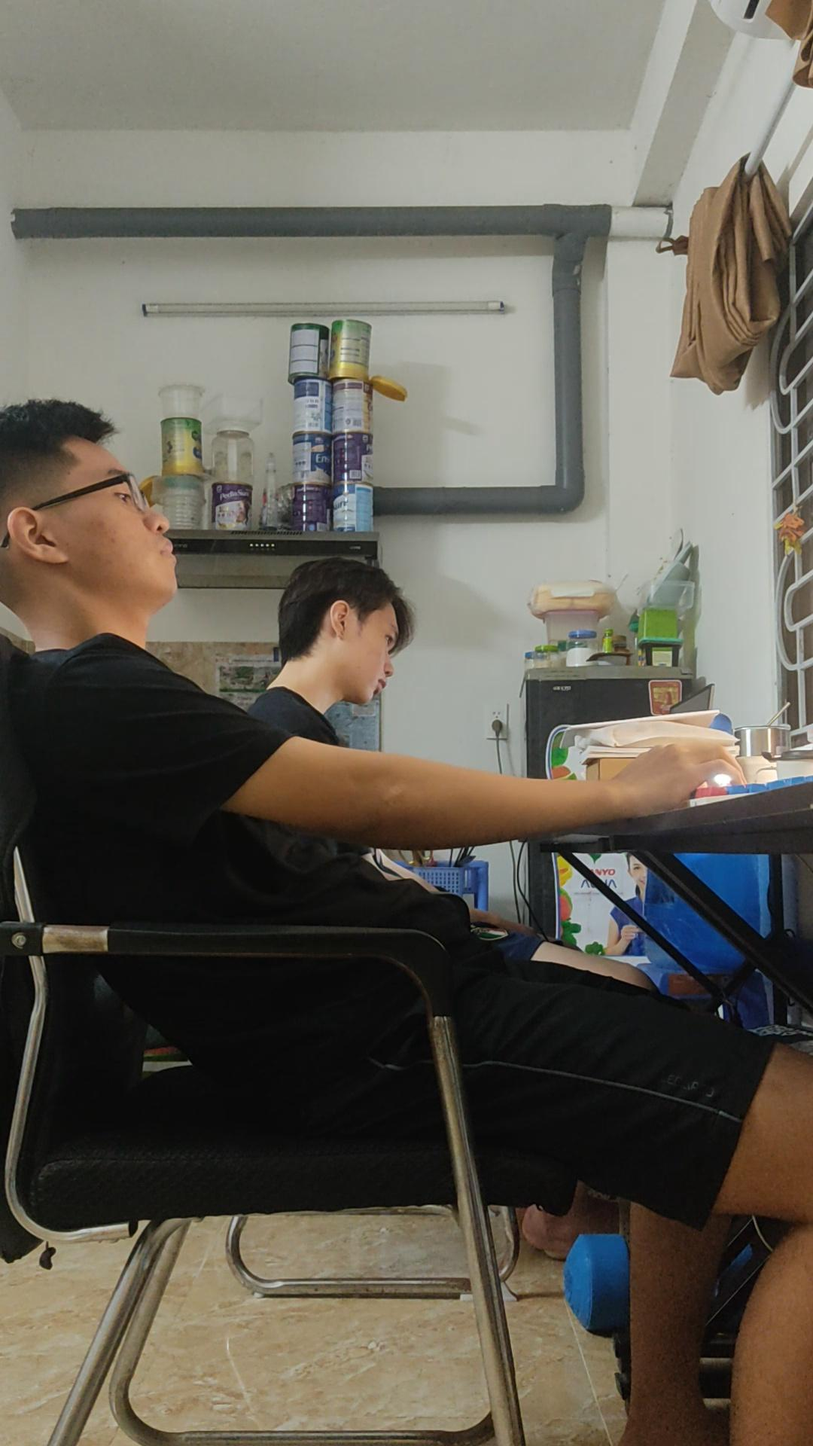BadPosture: (0, 382, 812, 1427)
